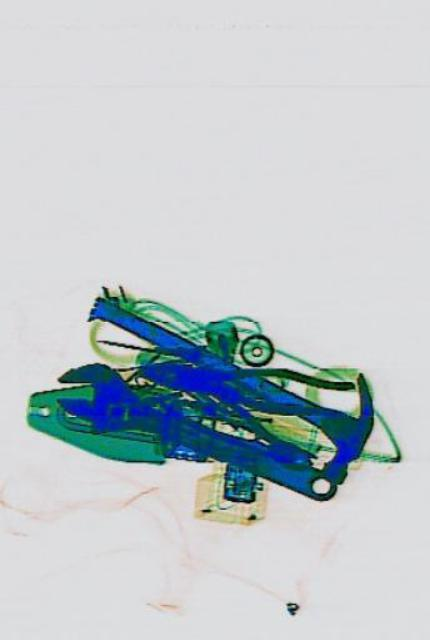Pliers: (135, 342, 353, 422)
Wrench: (46, 344, 340, 524)
